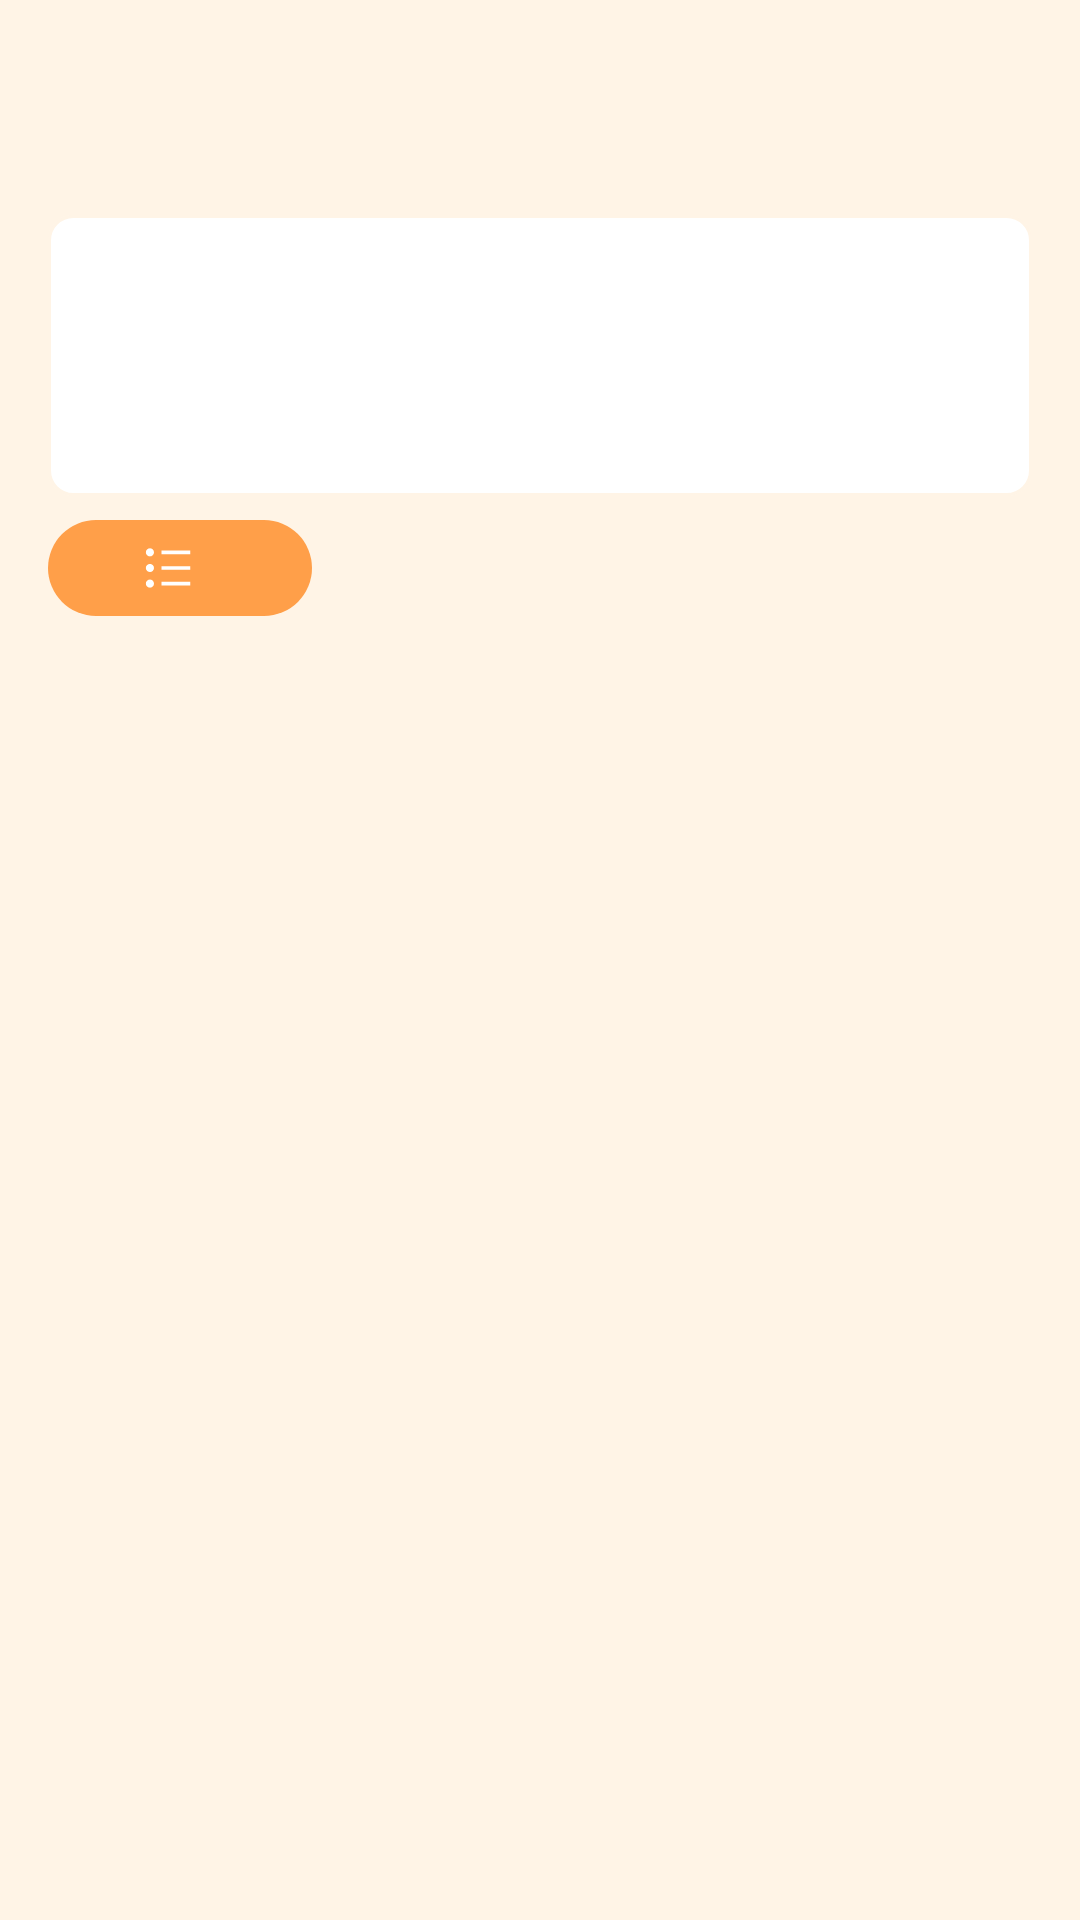

Named icons in this screenshot (1080×1920) and their bounding boxes, {"left": x1, "top": y1, "right": x2, "bottom": y2}:
list: {"left": 48, "top": 520, "right": 312, "bottom": 616}
